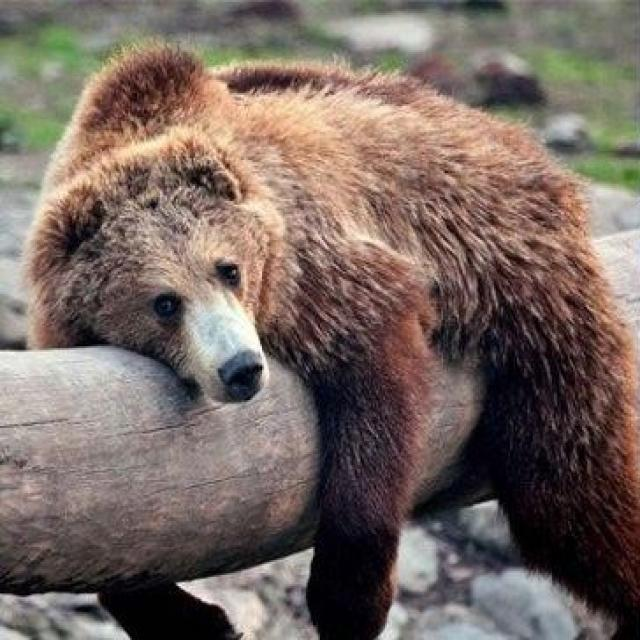Bear: (19, 41, 640, 640)
